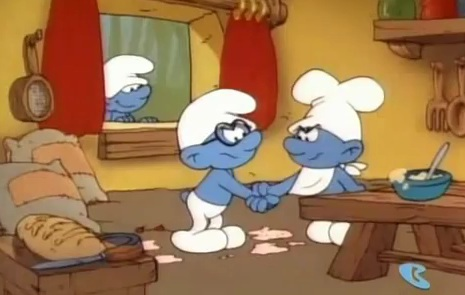smurf: (262, 67, 385, 247), (167, 87, 265, 255), (102, 52, 160, 128)
